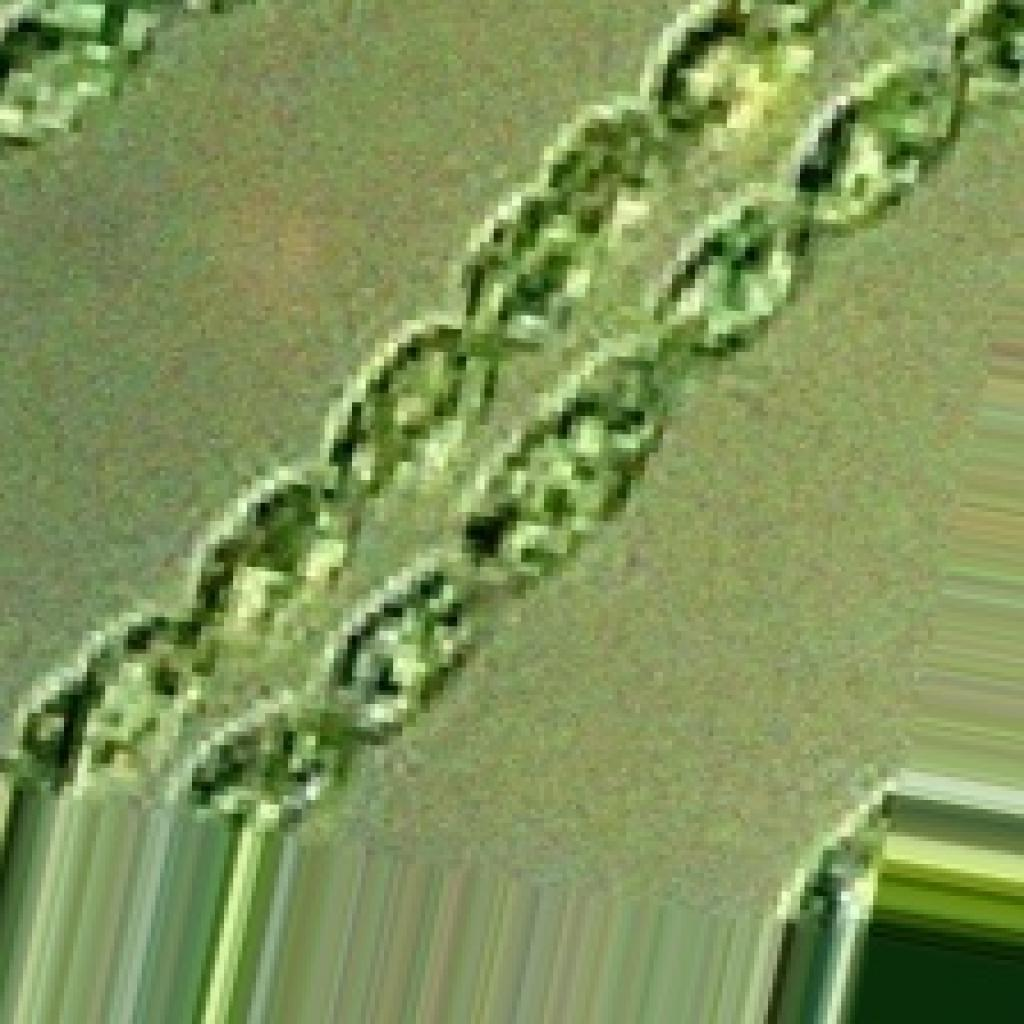Microalgae: (0, 0, 1019, 1019)
